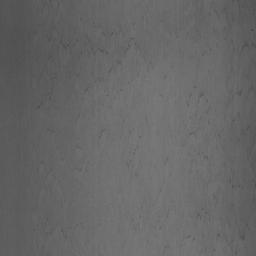Silk spot: (20, 0, 256, 256), (118, 188, 176, 255), (23, 145, 89, 192), (32, 216, 101, 256)
